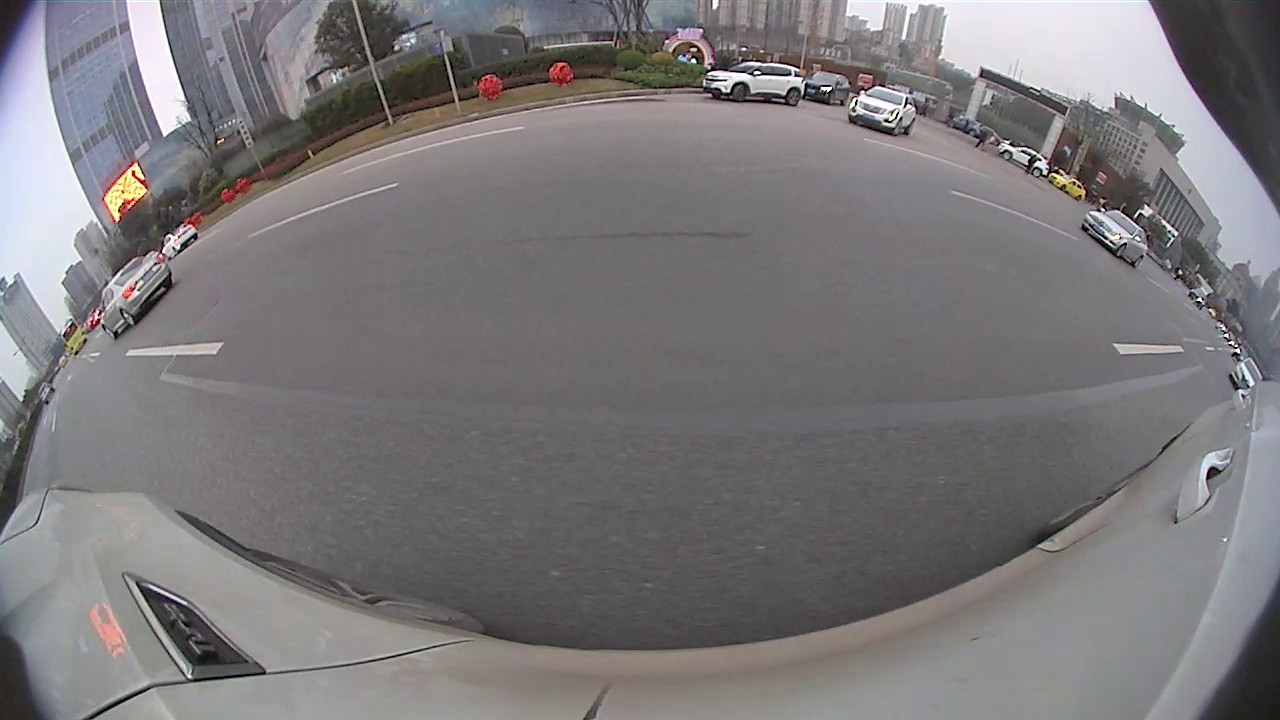car: (99, 250, 174, 340), (701, 60, 807, 107), (1081, 207, 1148, 267), (845, 83, 914, 137), (805, 66, 857, 107), (1228, 356, 1263, 395)
front: (101, 323, 120, 341), (732, 83, 749, 103), (1112, 241, 1129, 259), (891, 118, 905, 136), (846, 110, 857, 127), (709, 90, 723, 100), (1080, 222, 1090, 232)
rear: (120, 307, 140, 327), (786, 87, 801, 107), (903, 116, 915, 138), (160, 275, 175, 290), (1131, 254, 1145, 270)
